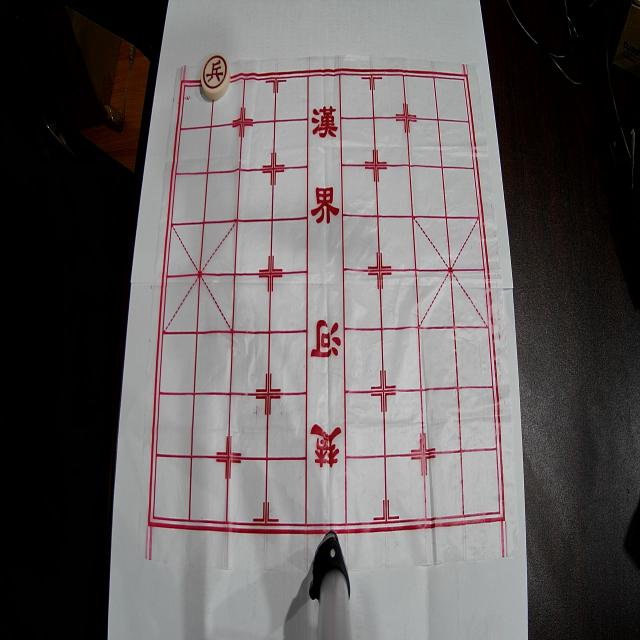red-soldier: (201, 53, 230, 100)
